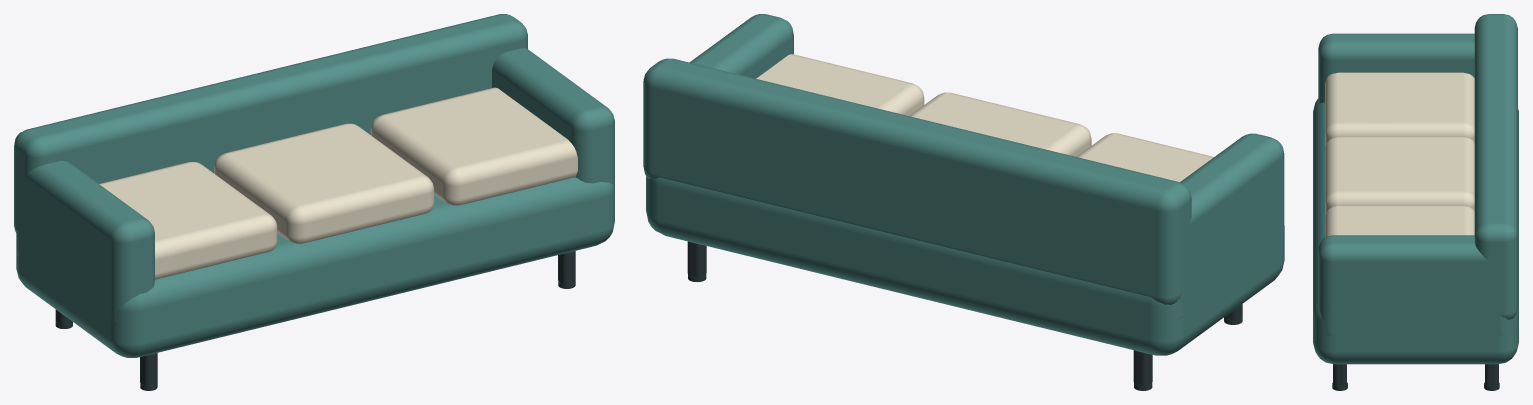
File: sofa.glb
3 renders of one model, left to right at view 1: azimuth 30°, elevation 25°; view 2: azimuth 150°, elevation 25°; view 3: azimuth 270°, elevation 25°, orthographic. The views are drawn at different scales.
Parts seen in each view (by area): view 1: sofa; view 2: sofa; view 3: sofa.
Part boxes in pixels (x1,y1,x2,y2): sofa: [14, 14, 614, 390]; sofa: [643, 14, 1284, 390]; sofa: [1313, 14, 1518, 390].
Size of the model in its own units: 2.4 by 0.9 by 0.95.
